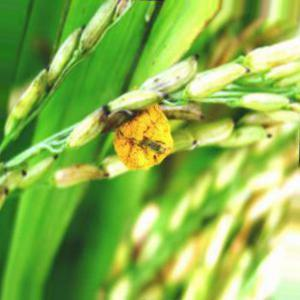Leaf_Scald: (111, 100, 180, 178)
